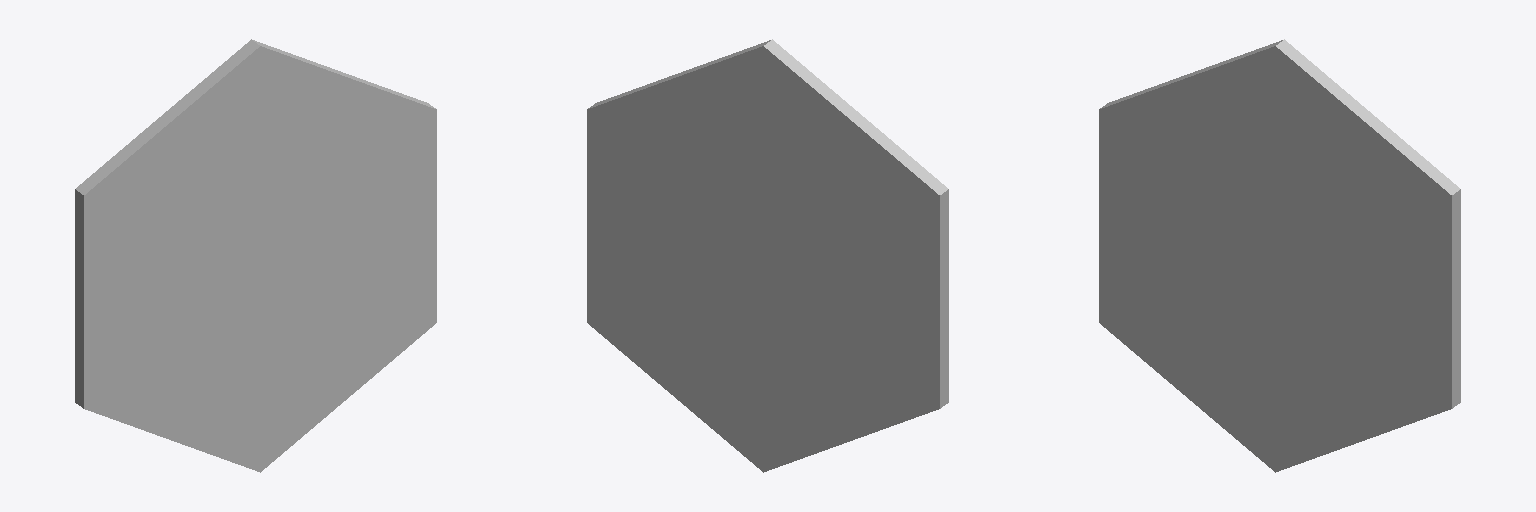
The model's file is Hexagono.obj.
3 views of the same model, side by side, from view 1: azimuth 30°, elevation 25°; view 2: azimuth 150°, elevation 25°; view 3: azimuth 330°, elevation 25° (orthographic).
Visible parts, largest first — view 1: Círculo; view 2: Círculo; view 3: Círculo.
Boxes of the visible parts, x1,y1,x2,y2 form: Círculo: [75, 39, 436, 472]; Círculo: [587, 39, 948, 472]; Círculo: [1099, 39, 1460, 472].
Bounding box in the file's own units: 1.73 × 2 × 0.0772.